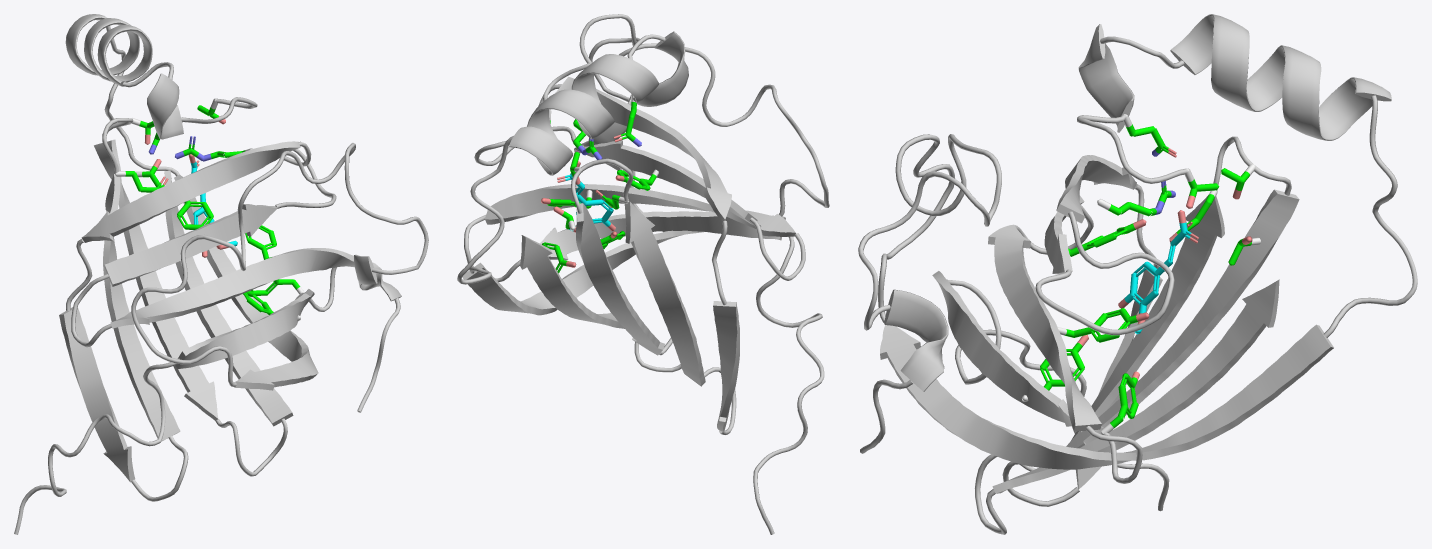
The model's file is docking_ferulic.gltf.
3 views of the same model, side by side, from view 1: azimuth 30°, elevation 25°; view 2: azimuth 150°, elevation 25°; view 3: azimuth 270°, elevation 25° (orthographic). The views are drawn at different scales.
Parts seen in each view (by area): view 1: node-geom155; view 2: node-geom155; view 3: node-geom155.
Boxes of the visible parts, <box> form: node-geom155: <box>14,14,428,534</box>; node-geom155: <box>457,14,829,534</box>; node-geom155: <box>858,14,1417,534</box>.
Bounding box in the file's own units: 32.24 × 43.76 × 38.9.
